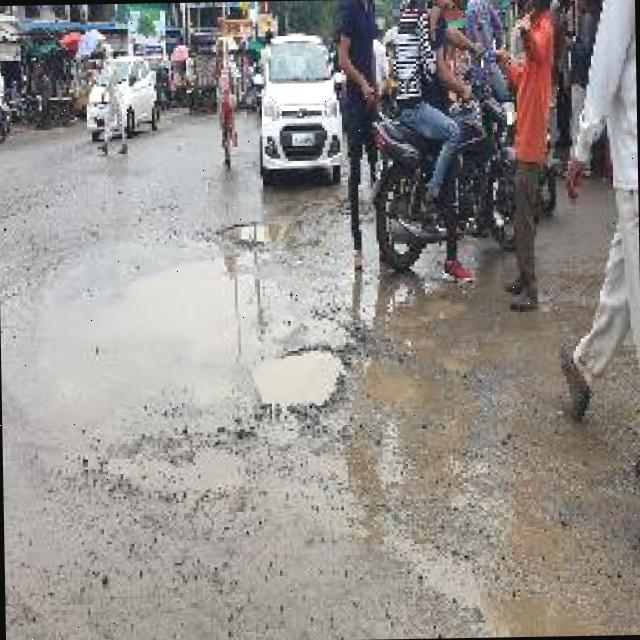stagnation: (245, 333, 362, 422)
